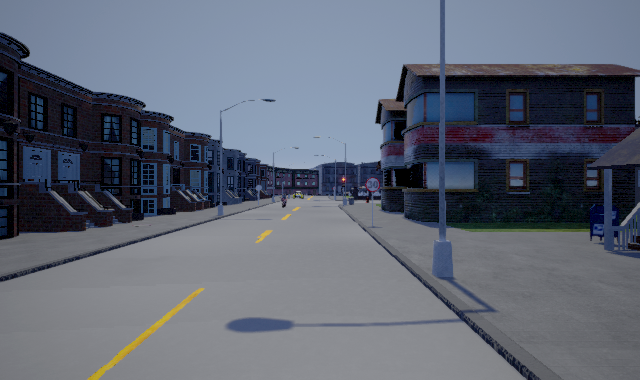motobike: (280, 193, 288, 207)
traffic_light: (342, 176, 345, 188)
traffic_sign: (365, 177, 380, 192)
